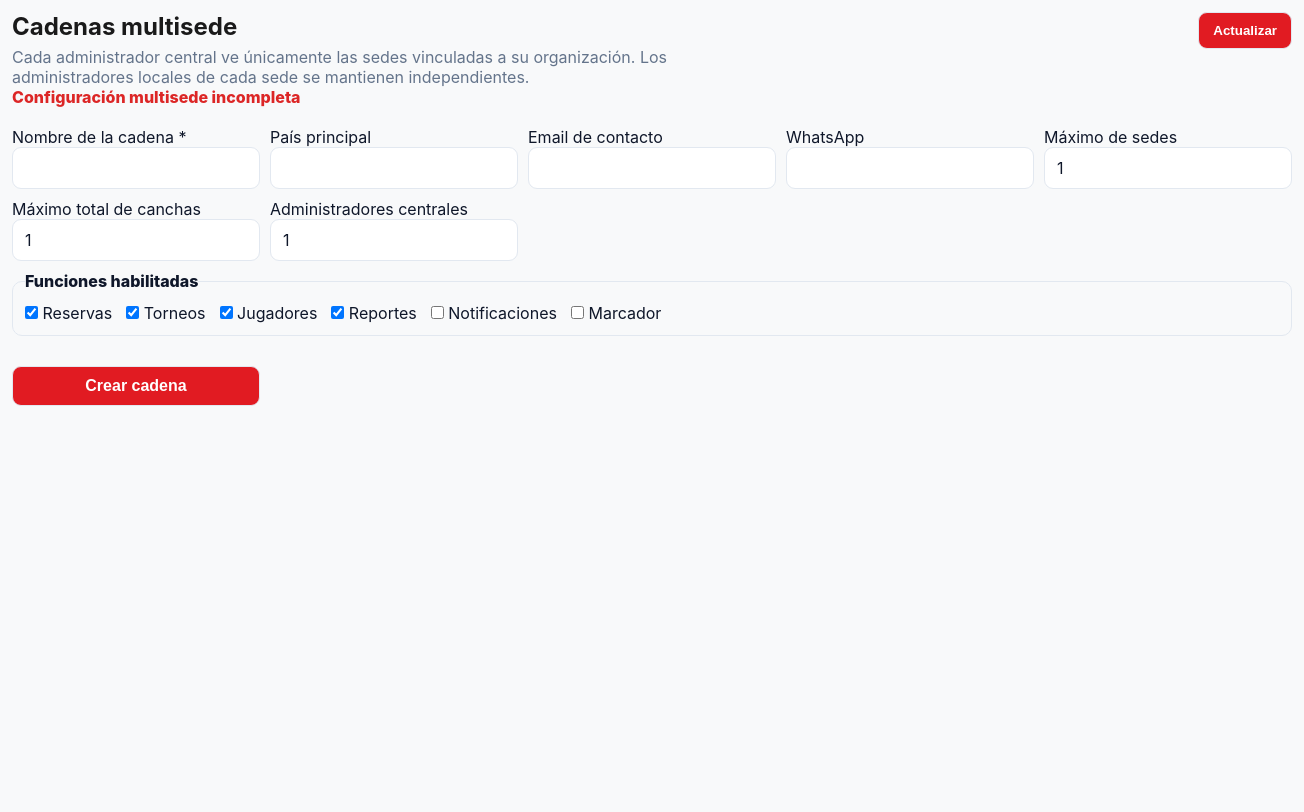
Test: schema failure shows error, blocks writes and retry recovers to confirmed data
Check: the message "Configuración multisede incompleta" is shown, box top-left (12, 87), bottom-right (300, 107)
Check: the button "Crear cadena" is disabled, box top-left (12, 366), bottom-right (260, 406)
Click the button "Actualizar" at {"x": 1245, "y": 30}, box top-left (1198, 12), bottom-right (1292, 49)
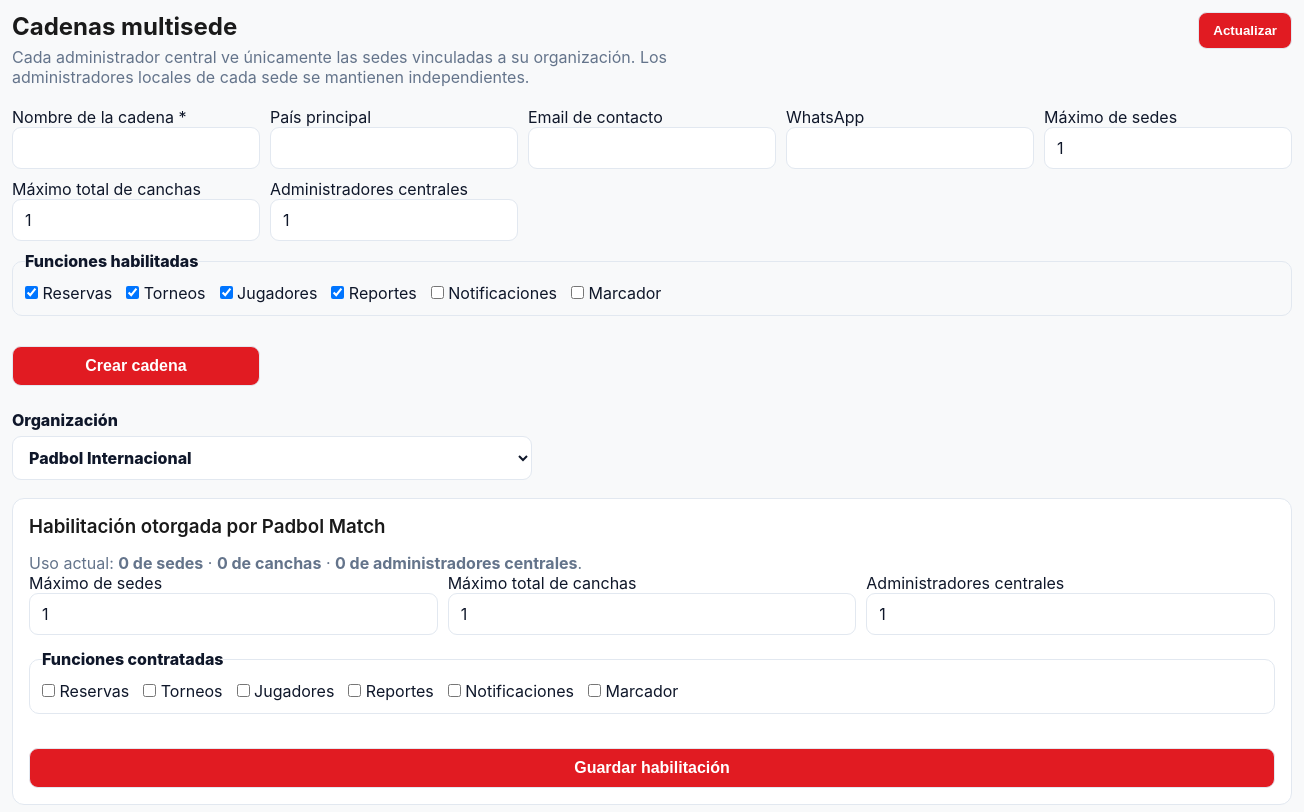
Check: the button "Crear cadena" is enabled, box top-left (12, 346), bottom-right (260, 386)
